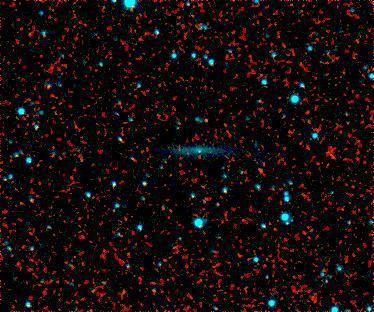star: (191, 108, 221, 138)
